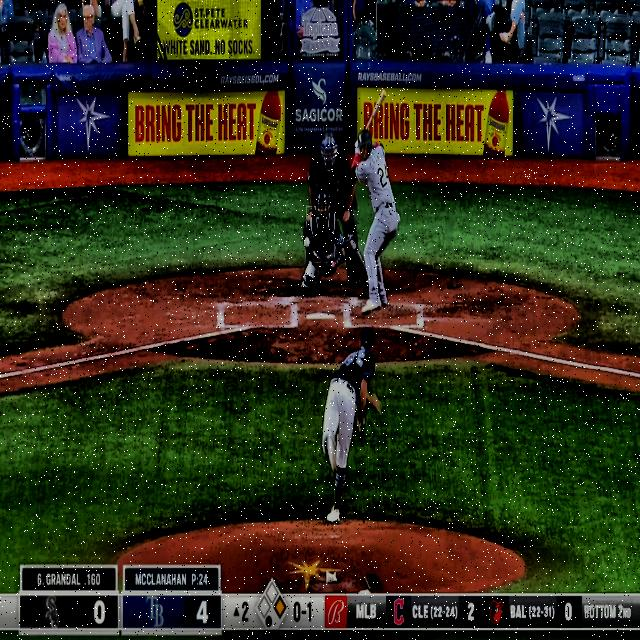baseball: (304, 236, 310, 249)
